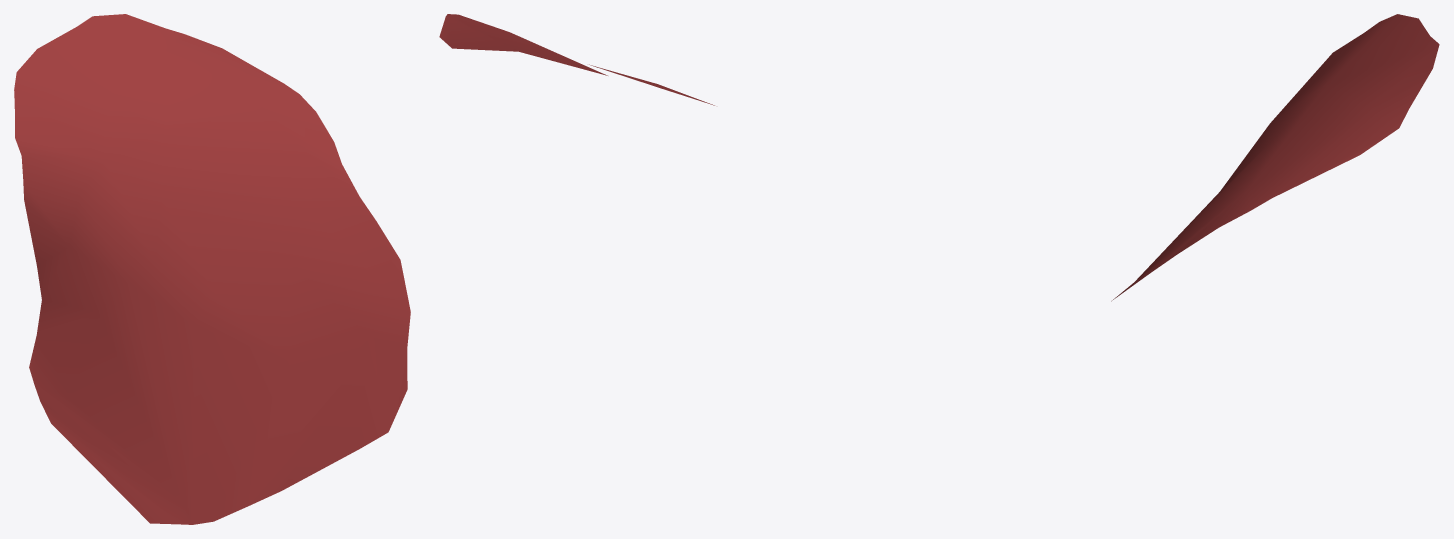
The model's file is sternocleidomastoid-muscle-or.glb.
3 views of the same model, side by side, from view 1: azimuth 30°, elevation 25°; view 2: azimuth 150°, elevation 25°; view 3: azimuth 270°, elevation 25° (orthographic). The views are drawn at different scales.
Parts seen in each view (by area): view 1: Sternocleidomastoid muscle.or; view 2: Sternocleidomastoid muscle.or; view 3: Sternocleidomastoid muscle.or.
Part boxes in pixels (bbox=[...]): Sternocleidomastoid muscle.or: bbox=[14, 14, 410, 524]; Sternocleidomastoid muscle.or: bbox=[439, 14, 714, 105]; Sternocleidomastoid muscle.or: bbox=[1111, 14, 1439, 301].
Bounding box in the file's own units: 0.015 × 0.0187 × 0.0167.
